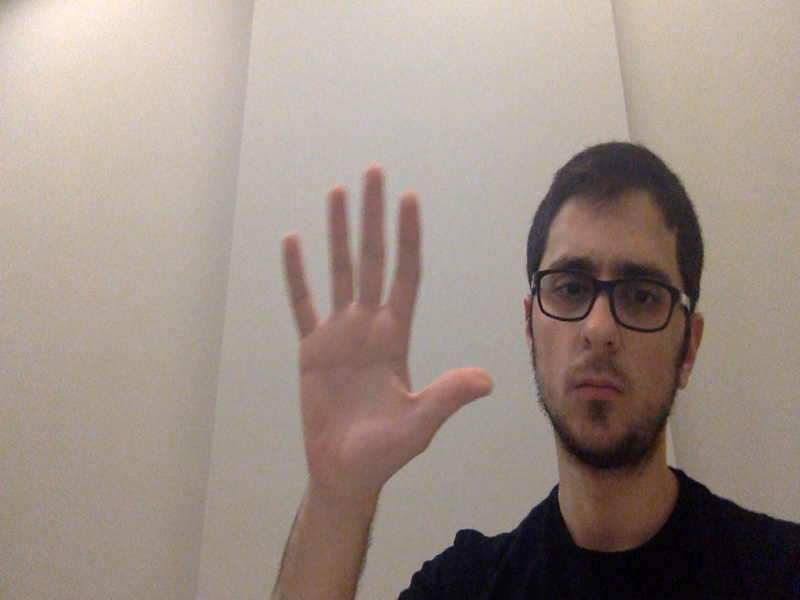5-hand: (277, 164, 501, 486)
